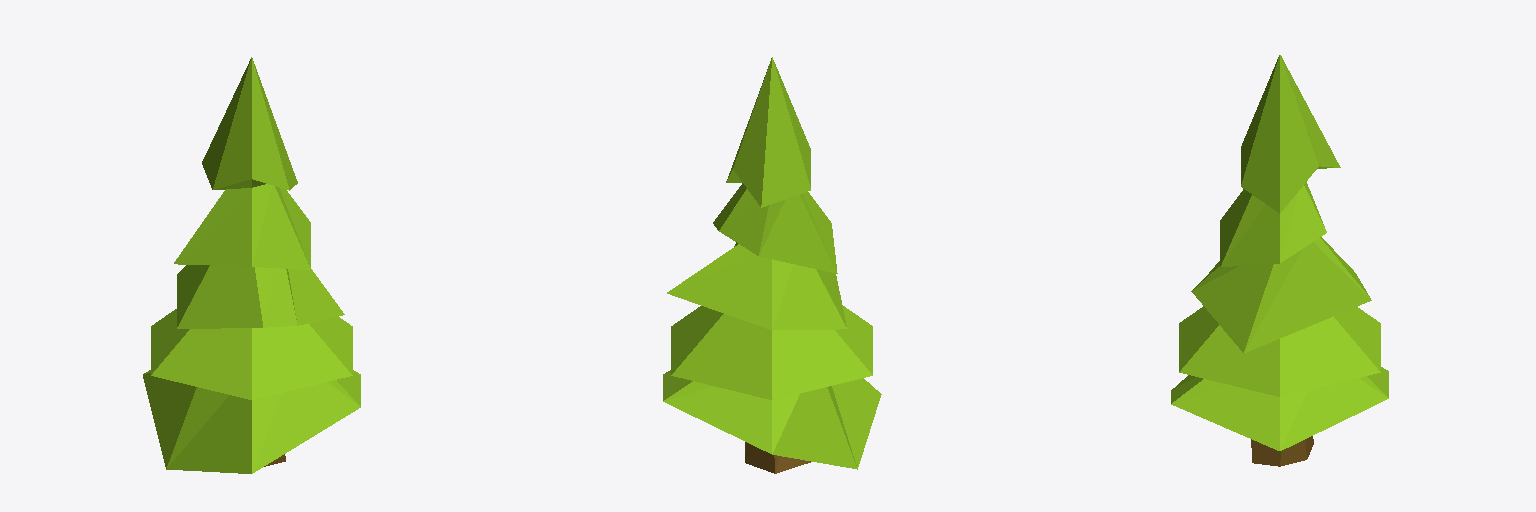
The model's file is sapin.obj.
3 renders of one model, left to right at view 1: azimuth 30°, elevation 25°; view 2: azimuth 150°, elevation 25°; view 3: azimuth 270°, elevation 25°, orthographic.
Parts seen in each view (by area): view 1: Sapin; view 2: Sapin; view 3: Sapin.
Boxes of the visible parts, x1=… form: Sapin: x1=143, y1=57, x2=360, y2=473; Sapin: x1=663, y1=57, x2=881, y2=473; Sapin: x1=1171, y1=55, x2=1388, y2=466.
Bounding box in the file's own units: 39.8 × 72.11 × 35.85.